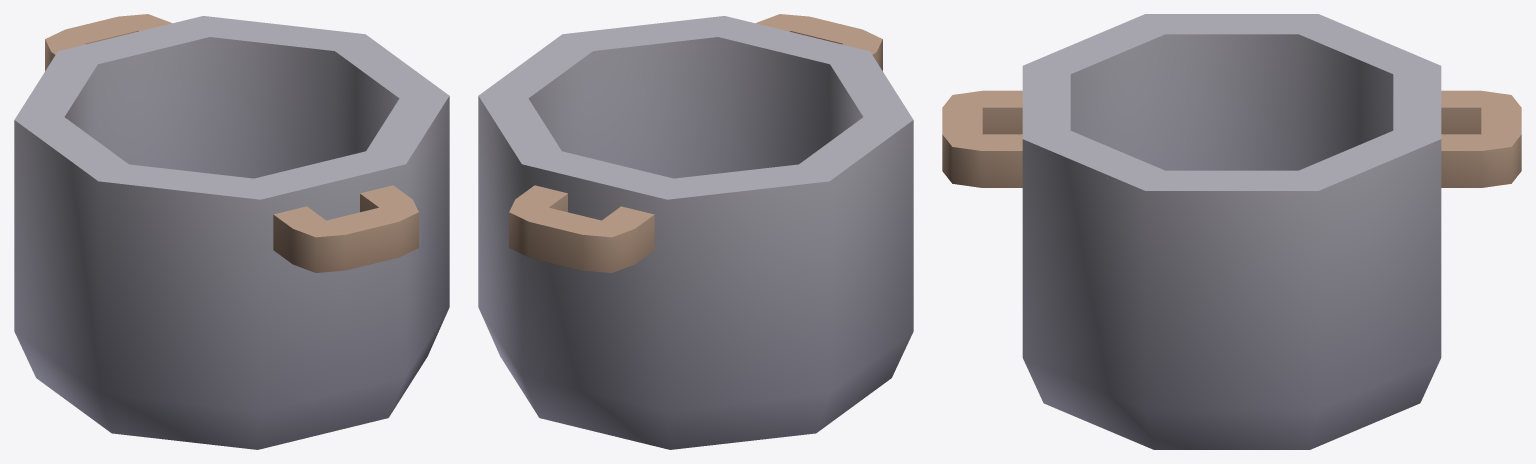
Rendered from cooking-pot.glb.
3 renders of one model, left to right at view 1: azimuth 30°, elevation 25°; view 2: azimuth 150°, elevation 25°; view 3: azimuth 270°, elevation 25°, orthographic. The views are drawn at different scales.
Visible parts, largest first — view 1: cooking-pot; view 2: cooking-pot; view 3: cooking-pot.
Boxes of the visible parts, <box> form: cooking-pot: <box>14,14,449,449</box>; cooking-pot: <box>478,14,913,449</box>; cooking-pot: <box>942,14,1521,449</box>.
Size of the model in its own units: 0.2681 by 0.1893 by 0.3709.
